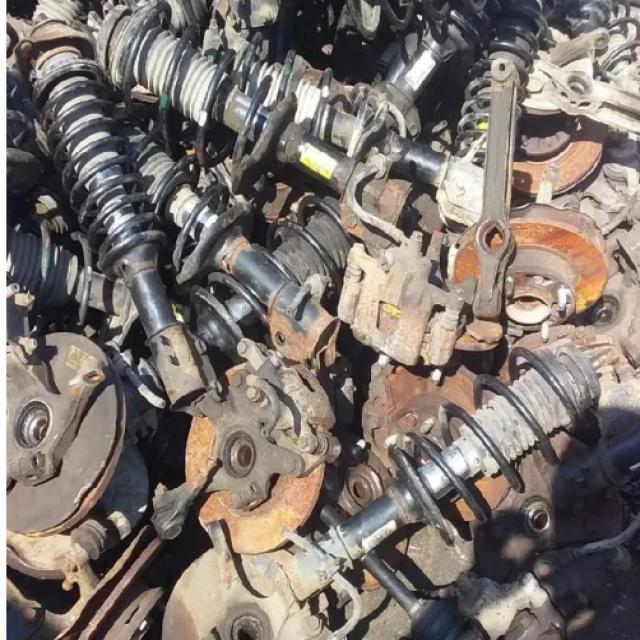shock absorber: (12, 18, 342, 554), (273, 344, 604, 603), (95, 0, 358, 201)
